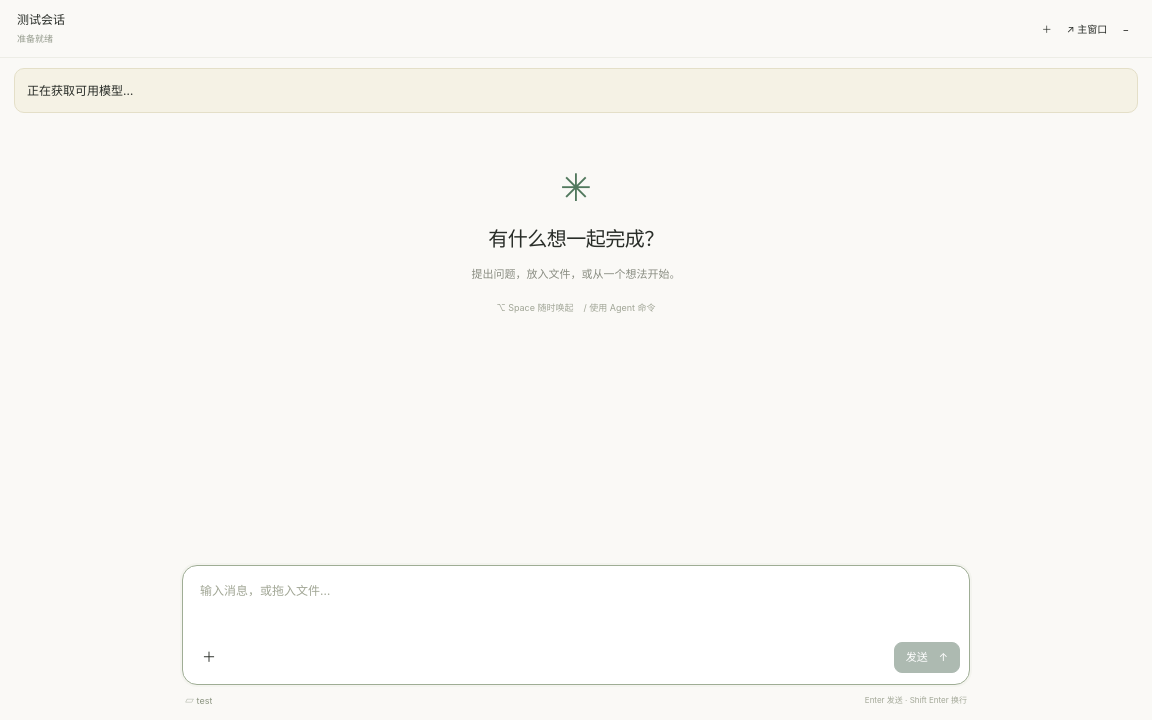
Test case: 桌面对话交互 › 草稿CAS冲突保留输入并显示解决入口
expect the text "测试会话" is shown: met, box [17, 10, 65, 29]
Type "不能丢失" into the text box labelled "消息" at (576, 600), box [183, 566, 969, 634]
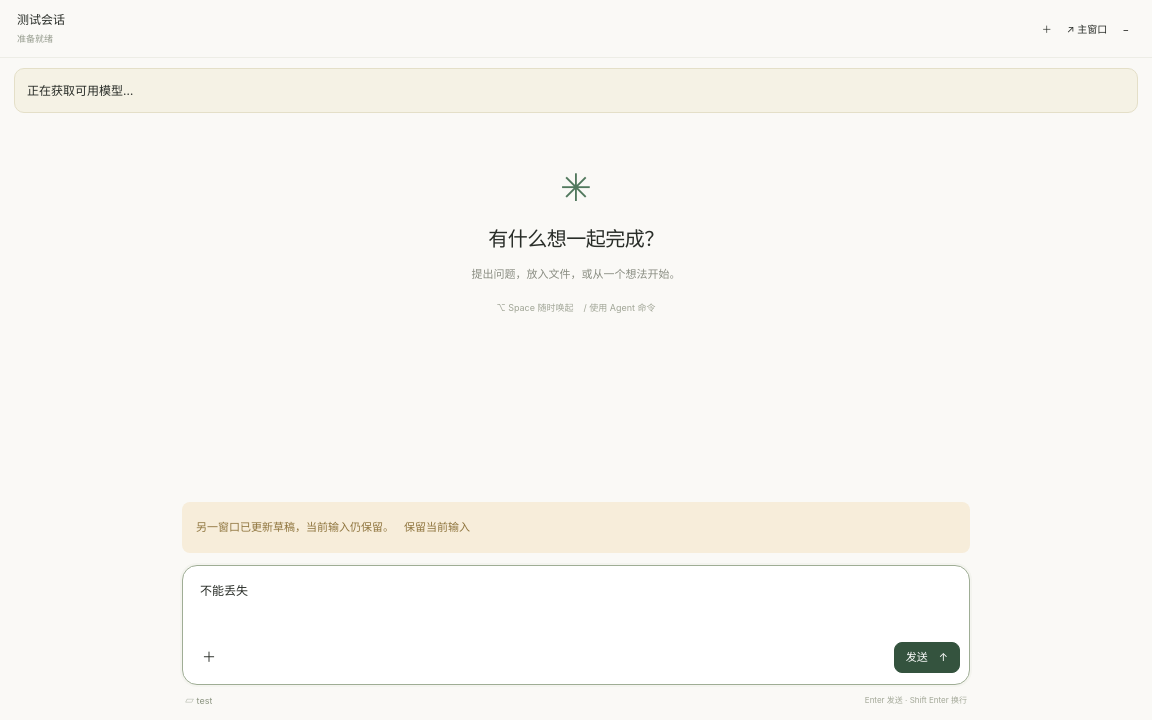
expect the text "另一窗口已更新草稿，当前输入仍保留。 保留当前输入" is shown: met, box [182, 502, 970, 553]
